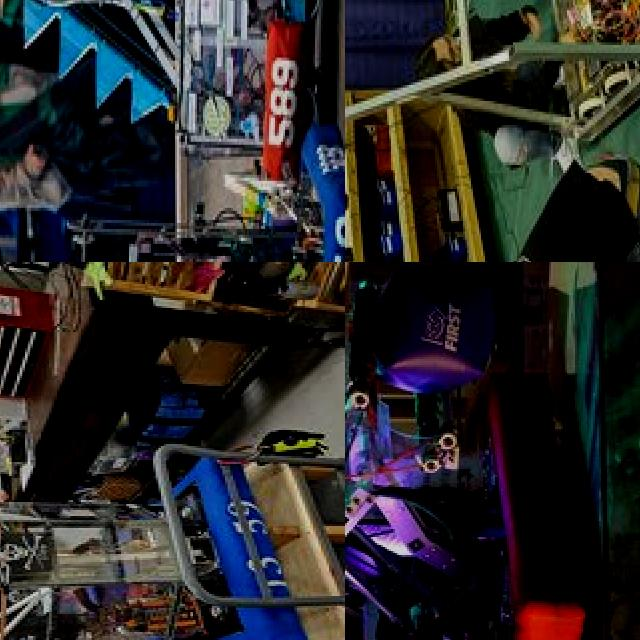FRC-Robots: (345, 328, 575, 640), (0, 434, 297, 640), (345, 0, 640, 170), (36, 0, 345, 129), (127, 132, 345, 262)
